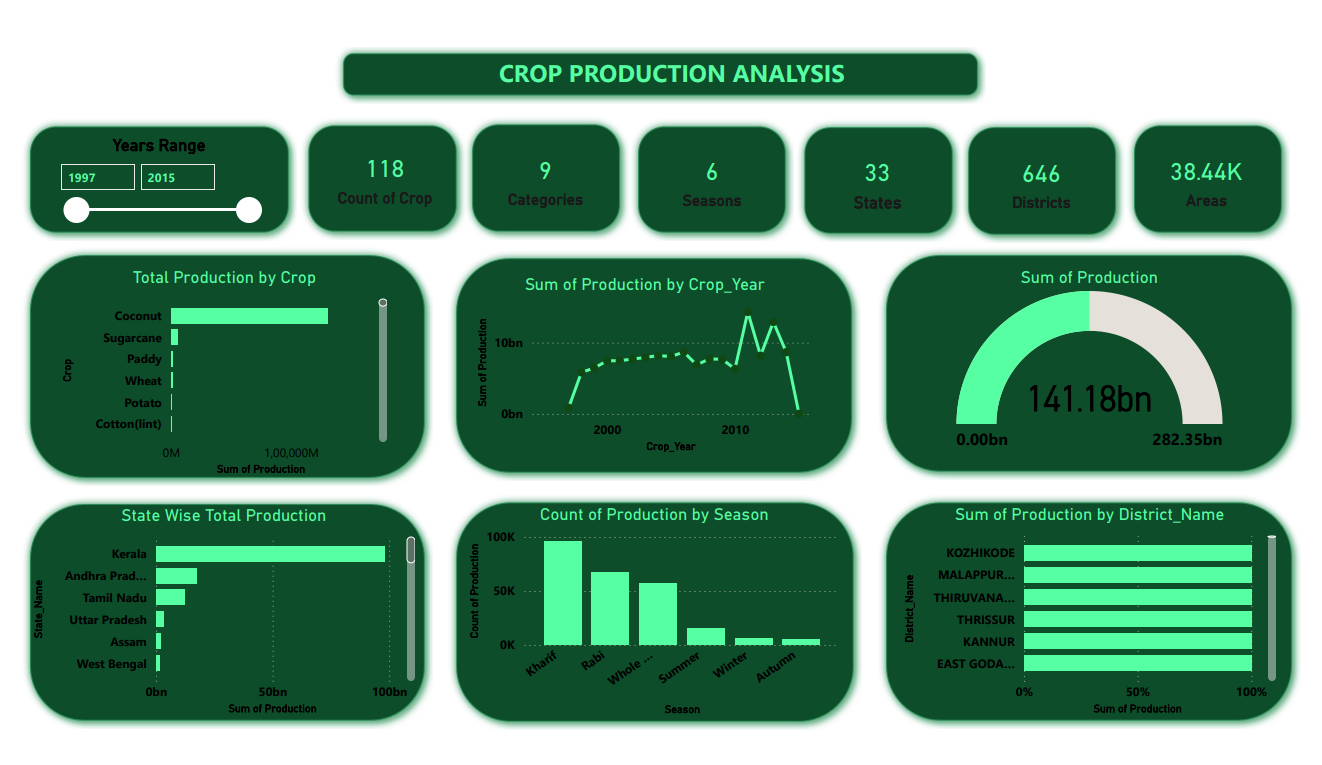

The page's visual inventory and layout, read from the dashboard file:
{"tool":"powerbi","page":{"name":"Page 2","canvas":[1280,720],"ordinal":0},"visuals":[{"type":"shape","title":"Heading Box","box":[314,22.4,651,59],"z":0,"group":"g13"},{"type":"shape","title":"left-Shape","box":[443.3,93.2,165,123.8],"z":0,"group":"g14"},{"type":"shape","title":"left-Shape","box":[279.5,94,164.5,123.2],"z":0,"group":"g11"},{"type":"shape","title":"left-Shape","box":[1104,94,165,123.8],"z":0,"group":"g8"},{"type":"shape","title":"left-Shape","box":[0,94.9,275.6,123.2],"z":0,"group":"g12"},{"type":"shape","title":"left-Shape","box":[608.9,94.9,164.1,122.8],"z":0,"group":"g7"},{"type":"shape","title":"left-Shape","box":[774.6,95.7,164.7,123.3],"z":0,"group":"g10"},{"type":"shape","title":"left-Shape","box":[939.3,95.7,165,123.8],"z":0,"group":"g9"},{"type":"shape","title":"left-Shape","box":[0,224.3,411.8,238.5],"z":0,"group":"g6"},{"type":"shape","title":"left-Shape","box":[857.4,224.3,422.6,232.9],"z":0,"group":"g2"},{"type":"shape","title":"left-Shape","box":[427,226.8,413.2,231.2],"z":0,"group":"g4"},{"type":"shape","title":"left-Shape","box":[427,470.9,414.2,236.2],"z":0,"group":"g3"},{"type":"group","id":"g1","title":"right_second","box":[857.4,470.9,422.6,235.5],"z":0},{"type":"shape","title":"left-Shape","box":[857.4,470.9,422.6,235.5],"z":0,"group":"g1"},{"type":"shape","title":"left-Shape","box":[0,471.8,411.8,234.2],"z":0,"group":"g5"},{"type":"card","title":"season count","fields":{"Values":["Count(crop_production (2).Crop)"]},"box":[300.8,108,128.2,91.9],"z":1000,"group":"g11"},{"type":"card","title":"Area count","fields":{"Values":["Count(crop_production (2).Category)"]},"box":[461,109.9,127.7,91.4],"z":1000,"group":"g14"},{"type":"card","title":"season count","fields":{"Values":["Count(crop_production (2).Season)"]},"box":[626.7,110.6,128.5,91.4],"z":1000,"group":"g7"},{"type":"card","title":"Area count","fields":{"Values":["Count(crop_production (2).Area)"]},"box":[1121.7,110.7,127.7,91.4],"z":1000,"group":"g8"},{"type":"slicer","title":"Years Range","fields":{"Values":["crop_production (2).Crop_Year"]},"box":[27.3,112.1,222.1,90.9],"z":1000,"group":"g12"},{"type":"card","title":"state count","fields":{"Values":["Count(crop_production (2).State_Name)"]},"box":[792.2,112.4,127.5,91],"z":1000,"group":"g10"},{"type":"card","title":"Area count","fields":{"Values":["Count(crop_production (2).District_Name)"]},"box":[957,112.4,127.7,91.4],"z":1000,"group":"g9"},{"type":"group","id":"g2","title":"right_first","box":[857.4,224.3,422.6,232.9],"z":1000},{"type":"gauge","fields":{"Y":["Sum(crop_production (2).Production)"]},"box":[898.5,243.9,340.7,193.3],"z":1000,"group":"g2"},{"type":"barChart","title":"Total Production by Crop","fields":{"Category":["crop_production (2).Crop"],"Y":["Sum(crop_production (2).Production)"]},"box":[36,244.3,335.2,212.6],"z":1000,"group":"g6"},{"type":"lineChart","fields":{"Category":["crop_production (2).Crop_Year"],"Y":["Sum(crop_production (2).Production)"]},"box":[451.3,250.4,345.3,183.2],"z":1000,"group":"g4"},{"type":"hundredPercentStackedBarChart","fields":{"Category":["crop_production (2).District_Name"],"Y":["Sum(crop_production (2).Production)"]},"box":[878.6,481,381.3,215.3],"z":1000,"group":"g1"},{"type":"columnChart","fields":{"Category":["crop_production (2).Season"],"Y":["CountNonNull(crop_production (2).Production)"]},"box":[443,481.3,381.1,215.5],"z":1000,"group":"g3"},{"type":"clusteredBarChart","title":"State Wise Total  Production ","fields":{"Category":["crop_production (2).State_Name"],"Y":["Sum(crop_production (2).Production)"]},"box":[7.2,481.8,392.2,214.2],"z":1000,"group":"g5"},{"type":"group","id":"g3","title":"middle_second","box":[427,470.9,413.2,235.5],"z":2000},{"type":"group","id":"g4","title":"middle_first","box":[427,226.8,413.2,231.2],"z":3000},{"type":"group","id":"g5","title":"left_second","box":[0,471.8,411.4,234.6],"z":4000},{"type":"group","id":"g6","title":"left_first","box":[0,224.3,411.4,238.9],"z":5000},{"type":"group","id":"g7","title":"season_card","box":[608.9,94.9,164.7,123.3],"z":6000},{"type":"group","id":"g8","title":"area_card","box":[1104,94,165.6,122.5],"z":7000},{"type":"group","id":"g9","title":"districts_card","box":[939.3,95.7,164.7,124.2],"z":8000},{"type":"group","id":"g10","title":"states_card","box":[774.6,95.7,164.7,123.3],"z":9000},{"type":"group","id":"g11","title":"crop_card","box":[279.5,94,163.9,122.5],"z":10000},{"type":"group","id":"g12","title":"years_card","box":[0,94.9,274.3,124.2],"z":11000},{"type":"group","id":"g13","title":"Heading","box":[314,22.4,651.2,58.7],"z":12000},{"type":"textbox","box":[435.6,28.5,430.4,45.7],"z":13000},{"type":"group","id":"g14","title":"area_card","box":[443.3,93.2,165.6,123.3],"z":14000}]}

Visuals, with their boxes in screenshot pixels (x1, y1, x2, y2), scaled from the page's 1280x720 canvas onto the 1322x765 screenshot:
"Heading Box" shape: rect(324, 24, 997, 86)
"left-Shape" shape: rect(458, 99, 628, 231)
"left-Shape" shape: rect(289, 100, 459, 231)
"left-Shape" shape: rect(1140, 100, 1311, 231)
"left-Shape" shape: rect(0, 101, 285, 232)
"left-Shape" shape: rect(629, 101, 798, 231)
"left-Shape" shape: rect(800, 102, 970, 233)
"left-Shape" shape: rect(970, 102, 1141, 233)
"left-Shape" shape: rect(0, 238, 425, 492)
"left-Shape" shape: rect(886, 238, 1321, 486)
"left-Shape" shape: rect(441, 241, 868, 487)
"left-Shape" shape: rect(441, 500, 869, 751)
"right_second" group: rect(886, 500, 1321, 751)
"left-Shape" shape: rect(886, 500, 1321, 751)
"left-Shape" shape: rect(0, 501, 425, 750)
"season count" card: rect(311, 115, 443, 212)
"Area count" card: rect(476, 117, 608, 214)
"season count" card: rect(647, 118, 780, 215)
"Area count" card: rect(1159, 118, 1290, 215)
"Years Range" slicer: rect(28, 119, 258, 216)
"state count" card: rect(818, 119, 950, 216)
"Area count" card: rect(988, 119, 1120, 217)
"right_first" group: rect(886, 238, 1321, 486)
gauge - Sum(crop_production (2).Production): rect(928, 259, 1280, 465)
"Total Production by Crop" barChart: rect(37, 260, 383, 485)
lineChart - crop_production (2).Crop_Year x Sum(crop_production (2).Production): rect(466, 266, 823, 461)
hundredPercentStackedBarChart - crop_production (2).District_Name x Sum(crop_production (2).Production): rect(907, 511, 1301, 740)
columnChart - crop_production (2).Season x CountNonNull(crop_production (2).Production): rect(458, 511, 851, 740)
"State Wise Total  Production " clusteredBarChart: rect(7, 512, 413, 740)
"middle_second" group: rect(441, 500, 868, 751)
"middle_first" group: rect(441, 241, 868, 487)
"left_second" group: rect(0, 501, 425, 751)
"left_first" group: rect(0, 238, 425, 492)
"season_card" group: rect(629, 101, 799, 232)
"area_card" group: rect(1140, 100, 1311, 230)
"districts_card" group: rect(970, 102, 1140, 234)
"states_card" group: rect(800, 102, 970, 233)
"crop_card" group: rect(289, 100, 458, 230)
"years_card" group: rect(0, 101, 283, 233)
"Heading" group: rect(324, 24, 997, 86)
textbox: rect(450, 30, 894, 79)
"area_card" group: rect(458, 99, 629, 230)
